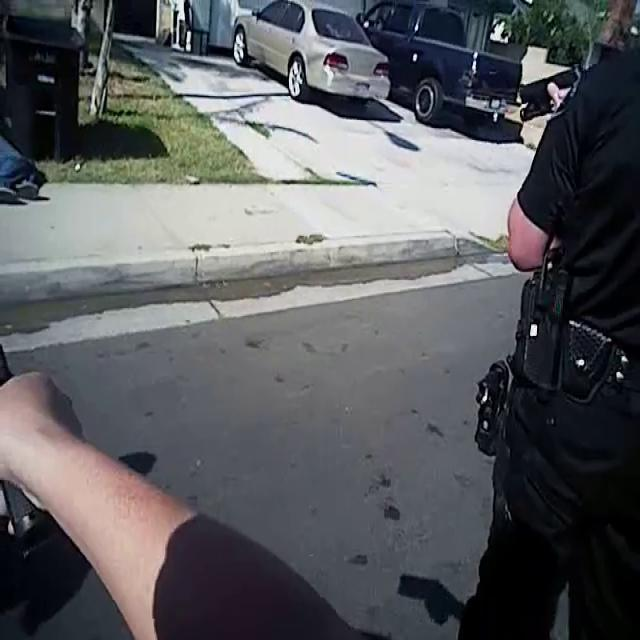gun: (498, 46, 590, 148)
